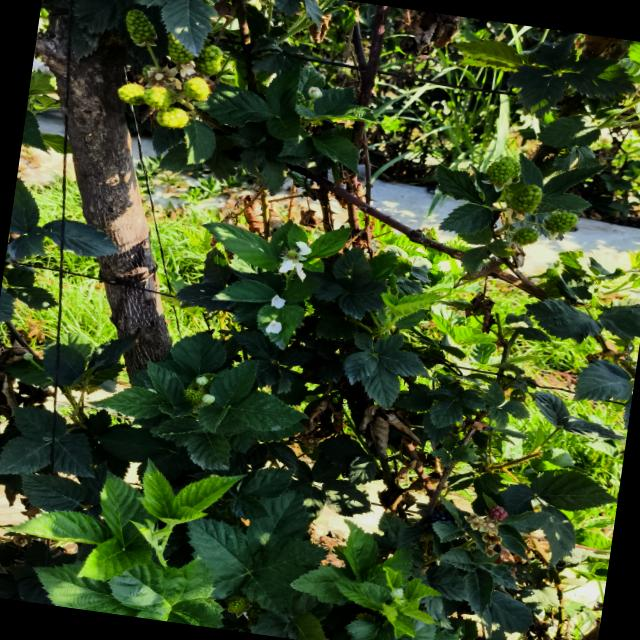verde: (126, 10, 156, 45), (486, 157, 520, 186), (195, 45, 224, 75), (512, 185, 542, 213), (168, 33, 193, 64), (156, 108, 190, 129), (143, 86, 174, 109), (183, 77, 211, 101), (545, 212, 578, 232), (117, 83, 145, 105), (513, 228, 538, 245)
